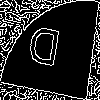D: (24, 25, 63, 77)
